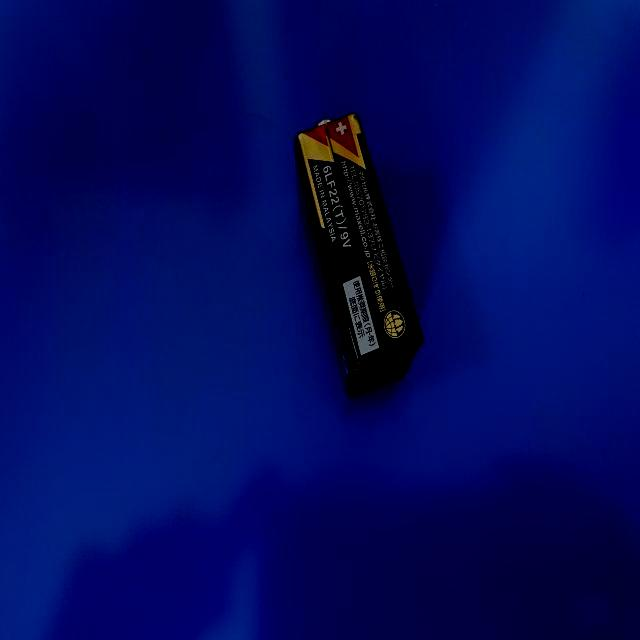9V: (296, 113, 425, 399)
